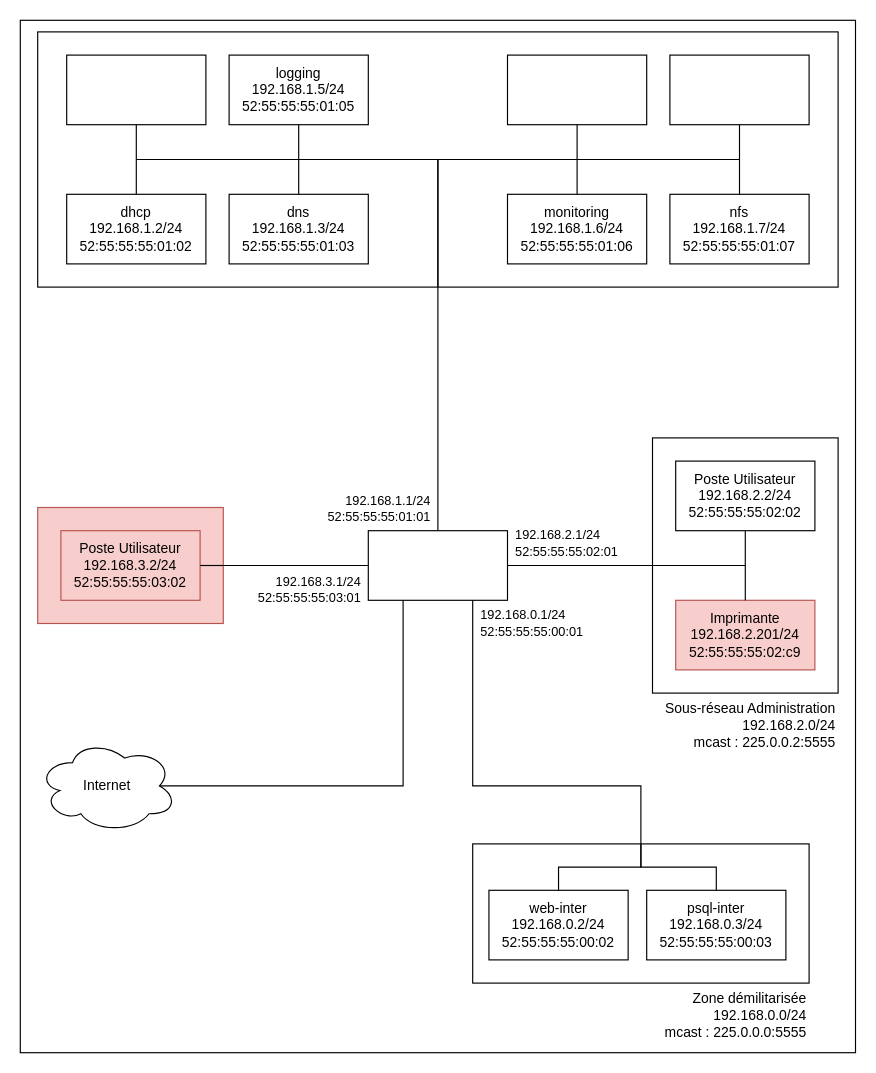
The diagram is 876 pixels wide and 1073 high, and some of its shapes have lost their labels. Each missing label, with the box of its shape:
ldap (+kerberos) 192.168.1.4/24 52:55:55:55:01:04: (66, 54, 206, 125)
psql-intra 192.168.1.9/24 52:55:55:55:01:09: (669, 54, 809, 125)
Routeur + Pare-feu: (367, 530, 507, 600)
Sous-réseau Serveurs 192.168.1.0/24 mcast : 225.0.0.1:5555: (37, 31, 838, 287)
Sous-réseau Usinage 192.168.3.0/24 mcast : 225.0.0.3:5555: (37, 506, 223, 624)
web-intra 192.168.1.8/24 52:55:55:55:01:08: (506, 54, 647, 125)
